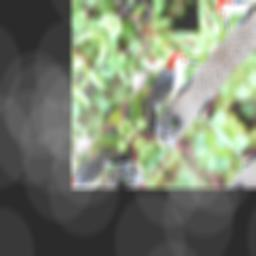Woodpecker: (122, 42, 211, 143)
